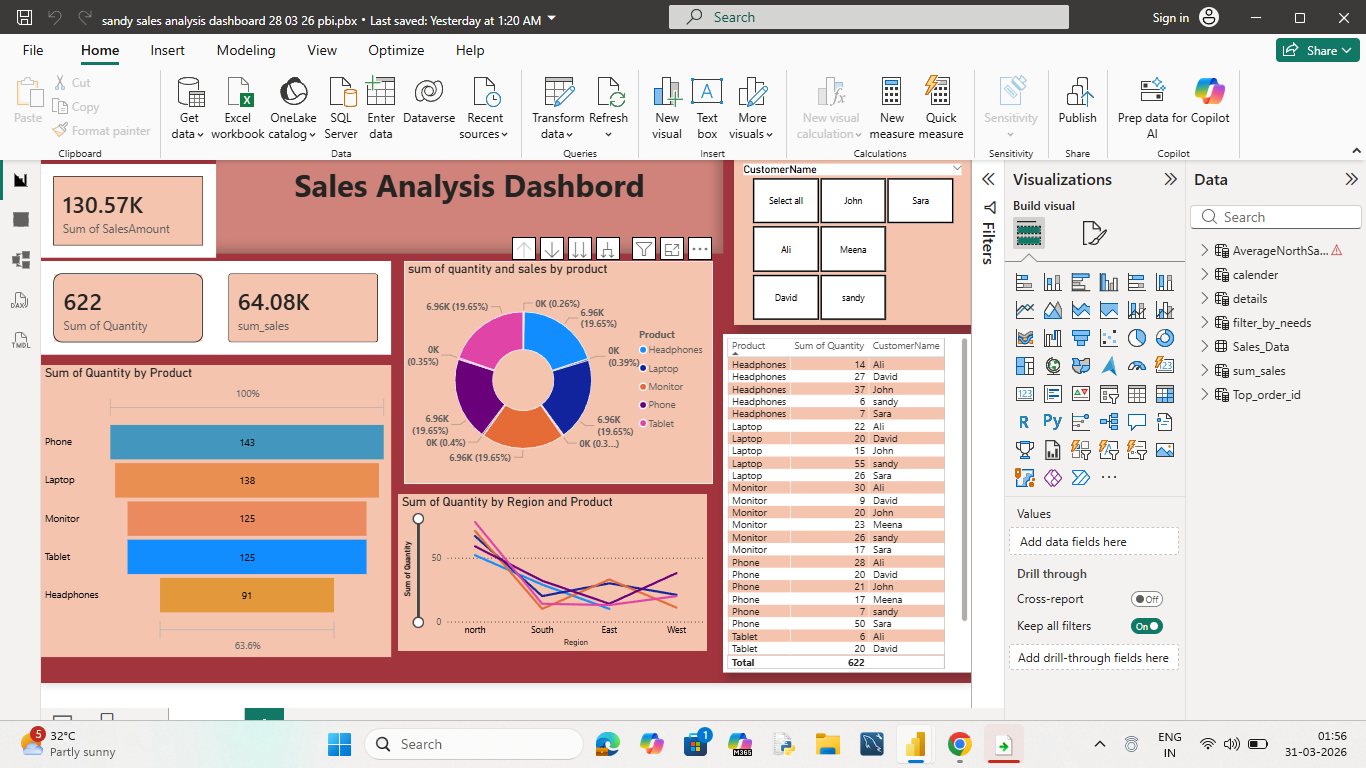

The dashboard page shown, as its layout file describes it:
{"tool":"powerbi","page":{"name":"Page 1","canvas":[1280,720],"ordinal":0},"visuals":[{"type":"textbox","box":[240.9,0,697.8,129.4],"z":0},{"type":"cardVisual","fields":{"Data":["Sum(Sales_Data.Quantity)"]},"box":[0,139,240.9,129.4],"z":1000},{"type":"cardVisual","fields":{"Data":["Sum(Sales_Data.SalesAmount)"]},"box":[0,5.5,240.9,129.4],"z":2000},{"type":"cardVisual","fields":{"Data":["sum_sales.sum_sales"]},"box":[240.9,139,240.9,129.4],"z":3000},{"type":"funnel","fields":{"Y":["Sum(Sales_Data.Quantity)"],"Category":["Sales_Data.Product"]},"box":[0,282.2,481.7,401.9],"z":4000},{"type":"donutChart","title":"sum of quantity and sales by product","fields":{"Y":["Sum(Sales_Data.Quantity)","Sum(Top_order_id.SalesAmount)"],"Category":["Sales_Data.Product","Top_order_id.OrderDate.Variation.Date Hierarchy.Year","Top_order_id.OrderDate.Variation.Date Hierarchy.Quarter","Top_order_id.OrderDate.Variation.Date Hierarchy.Month","Top_order_id.OrderDate.Variation.Date Hierarchy.Day"]},"box":[499.6,139,425.3,306.9],"z":5000},{"type":"slicer","fields":{"Values":["Sales_Data.CustomerName"]},"box":[953.8,0,326.2,227.1],"z":6000},{"type":"tableEx","fields":{"Values":["Sales_Data.Product","Sum(Sales_Data.Quantity)","Sales_Data.CustomerName"]},"box":[938.1,239.1,341.6,466.4],"z":7000},{"type":"lineChart","fields":{"Category":["Sales_Data.Region"],"Y":["Sum(Sales_Data.Quantity)"],"Series":["Sales_Data.Product"]},"box":[491.4,459.7,425.3,214.7],"z":8000}]}

Visuals, with their boxes on the page's 1280x720 design canvas (x1, y1, x2, y2). These are canvas units, not pixel positions in the 1366x768 screenshot, which may show the page scaled, cropped or inside an application window:
textbox: bbox=(241, 0, 939, 129)
cardVisual - Sum(Sales_Data.Quantity): bbox=(0, 139, 241, 268)
cardVisual - Sum(Sales_Data.SalesAmount): bbox=(0, 6, 241, 135)
cardVisual - sum_sales.sum_sales: bbox=(241, 139, 482, 268)
funnel - Sum(Sales_Data.Quantity) x Sales_Data.Product: bbox=(0, 282, 482, 684)
"sum of quantity and sales by product" donutChart: bbox=(500, 139, 925, 446)
slicer - Sales_Data.CustomerName: bbox=(954, 0, 1280, 227)
tableEx - Sales_Data.Product x Sum(Sales_Data.Quantity): bbox=(938, 239, 1280, 706)
lineChart - Sales_Data.Region x Sum(Sales_Data.Quantity): bbox=(491, 460, 917, 674)
